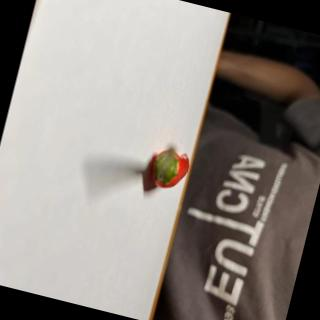Cabai Merah: (146, 139, 195, 195)
